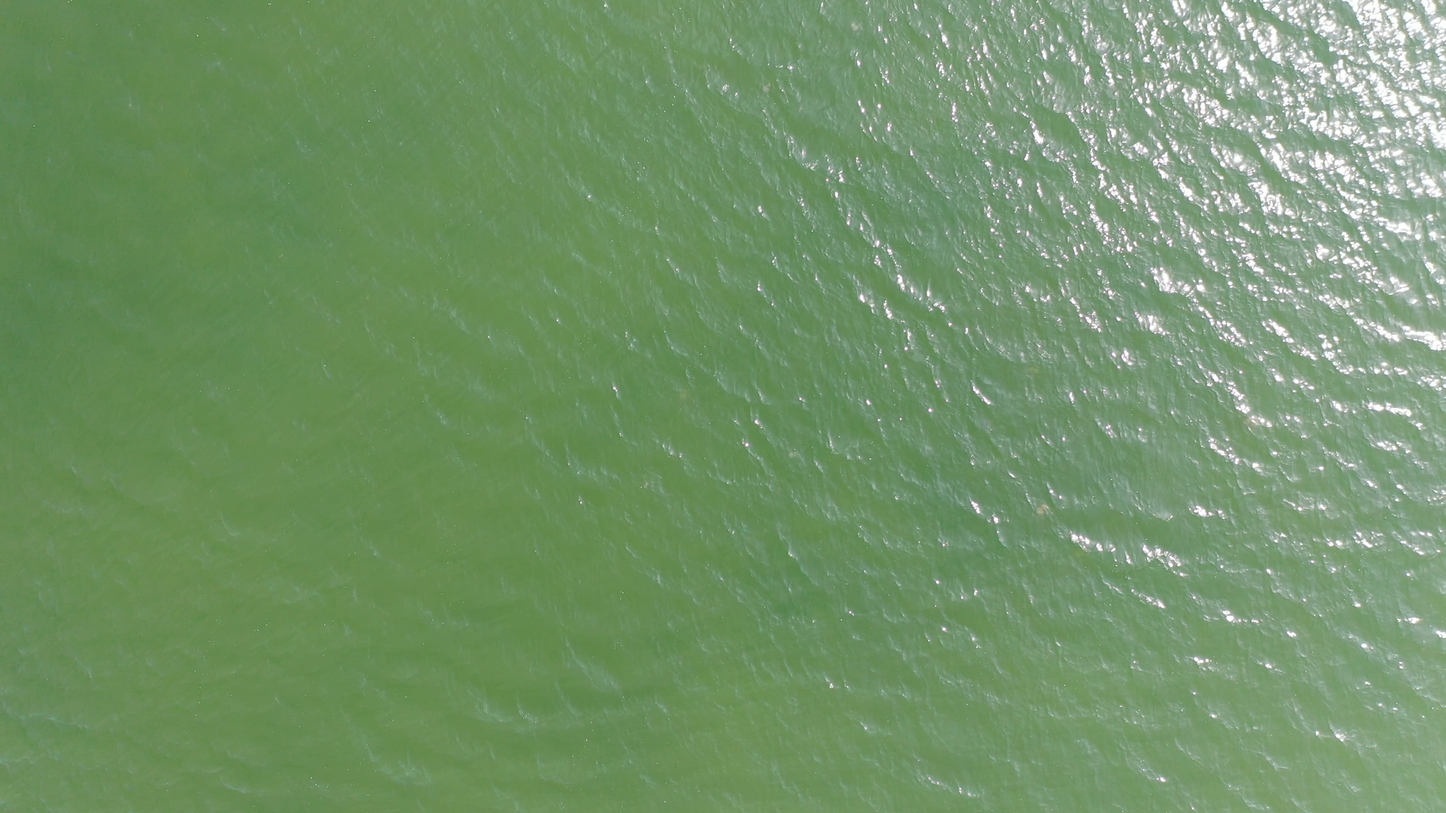meduse: (1246, 417, 1259, 427), (1036, 504, 1049, 513), (1075, 548, 1086, 558), (1027, 366, 1037, 374), (789, 451, 797, 458), (721, 805, 731, 810), (644, 482, 650, 489)
